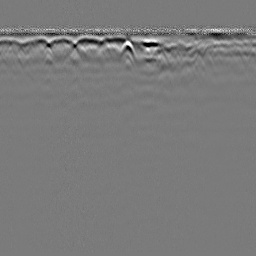cavity: (118, 38, 137, 59)
